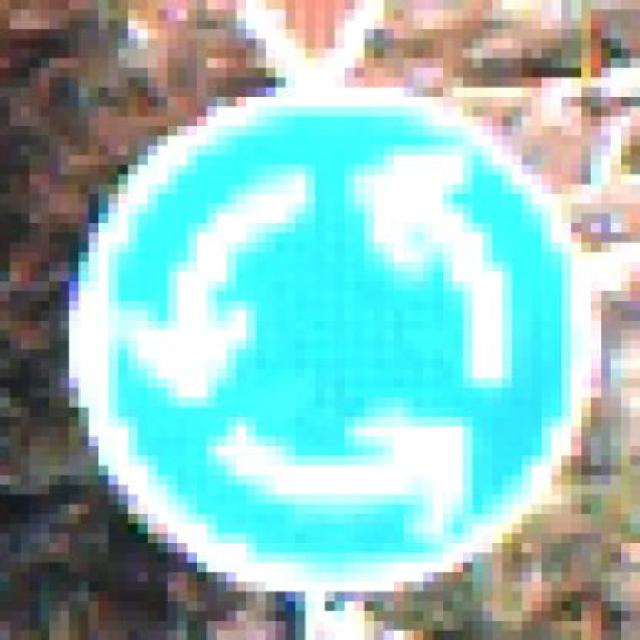Round-About: (69, 48, 620, 602)
